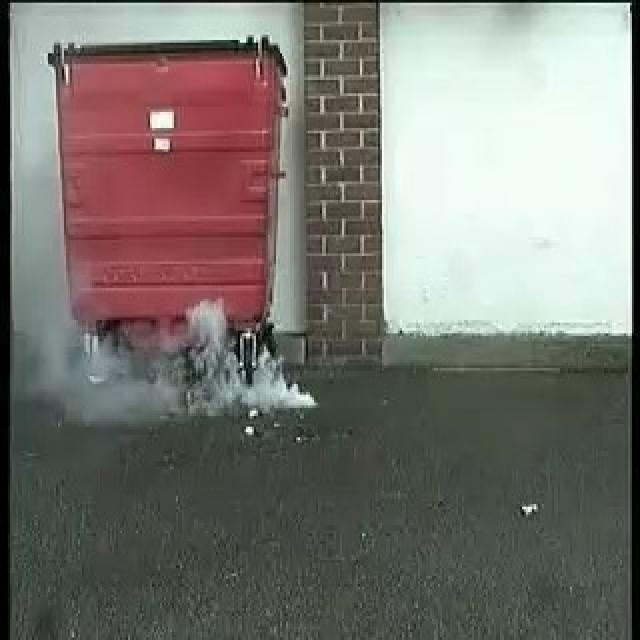smoke: (43, 296, 316, 417)
